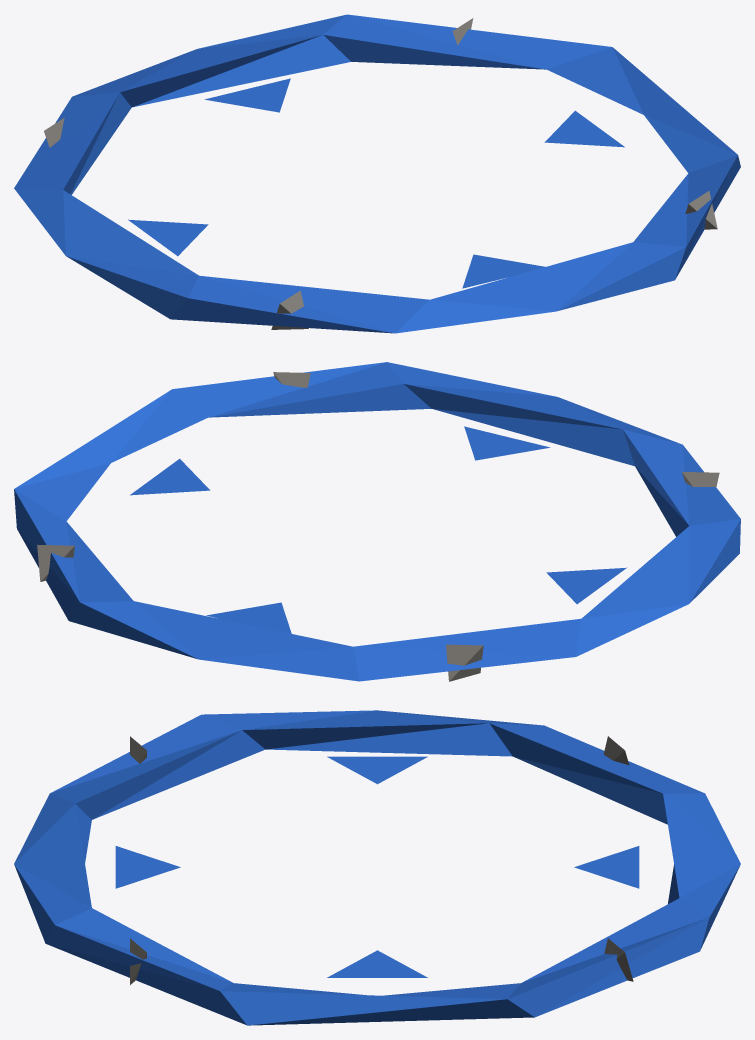
Rendered from unit_marker_lod1.obj.
The picture shows the model from 3 angles, top to bottom: view 1: azimuth 30°, elevation 25°; view 2: azimuth 150°, elevation 25°; view 3: azimuth 270°, elevation 25°; orthographic projection.
Parts seen in each view (by area): view 1: unit_marker_lod1; view 2: unit_marker_lod1; view 3: unit_marker_lod1.
Part boxes in pixels (x1,y1,x2,y2): unit_marker_lod1: (14,14,740,333); unit_marker_lod1: (14,362,740,681); unit_marker_lod1: (14,710,740,1025).
Size of the model in its own units: 0.983 by 0.05 by 1.
